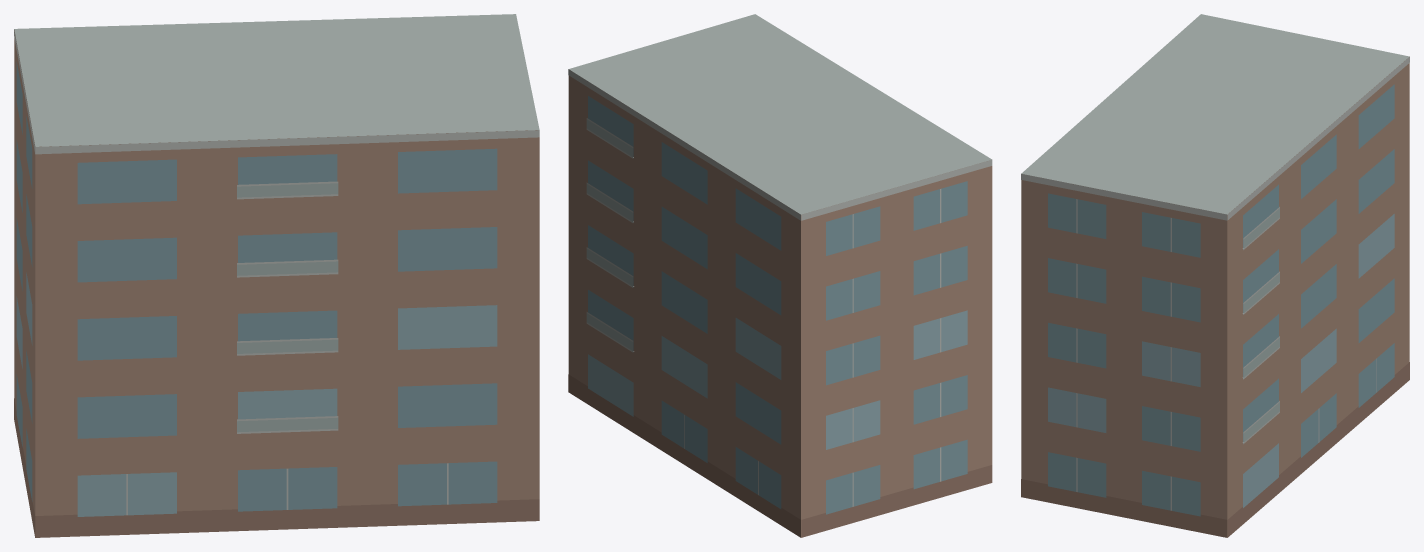
The model's file is survey-upis-32696702.glb.
3 renders of one model, left to right at view 1: azimuth 30°, elevation 25°; view 2: azimuth 150°, elevation 25°; view 3: azimuth 270°, elevation 25°, orthographic. The views are drawn at different scales.
Visible parts, largest first — view 1: survey-upis-32696702.tmp; view 2: survey-upis-32696702.tmp; view 3: survey-upis-32696702.tmp.
Part boxes in pixels (x1,y1,x2,y2): survey-upis-32696702.tmp: (14, 14, 539, 537); survey-upis-32696702.tmp: (568, 14, 992, 537); survey-upis-32696702.tmp: (1021, 14, 1409, 537).
Size of the model in its own units: 17.03 by 12.8 by 13.95.
